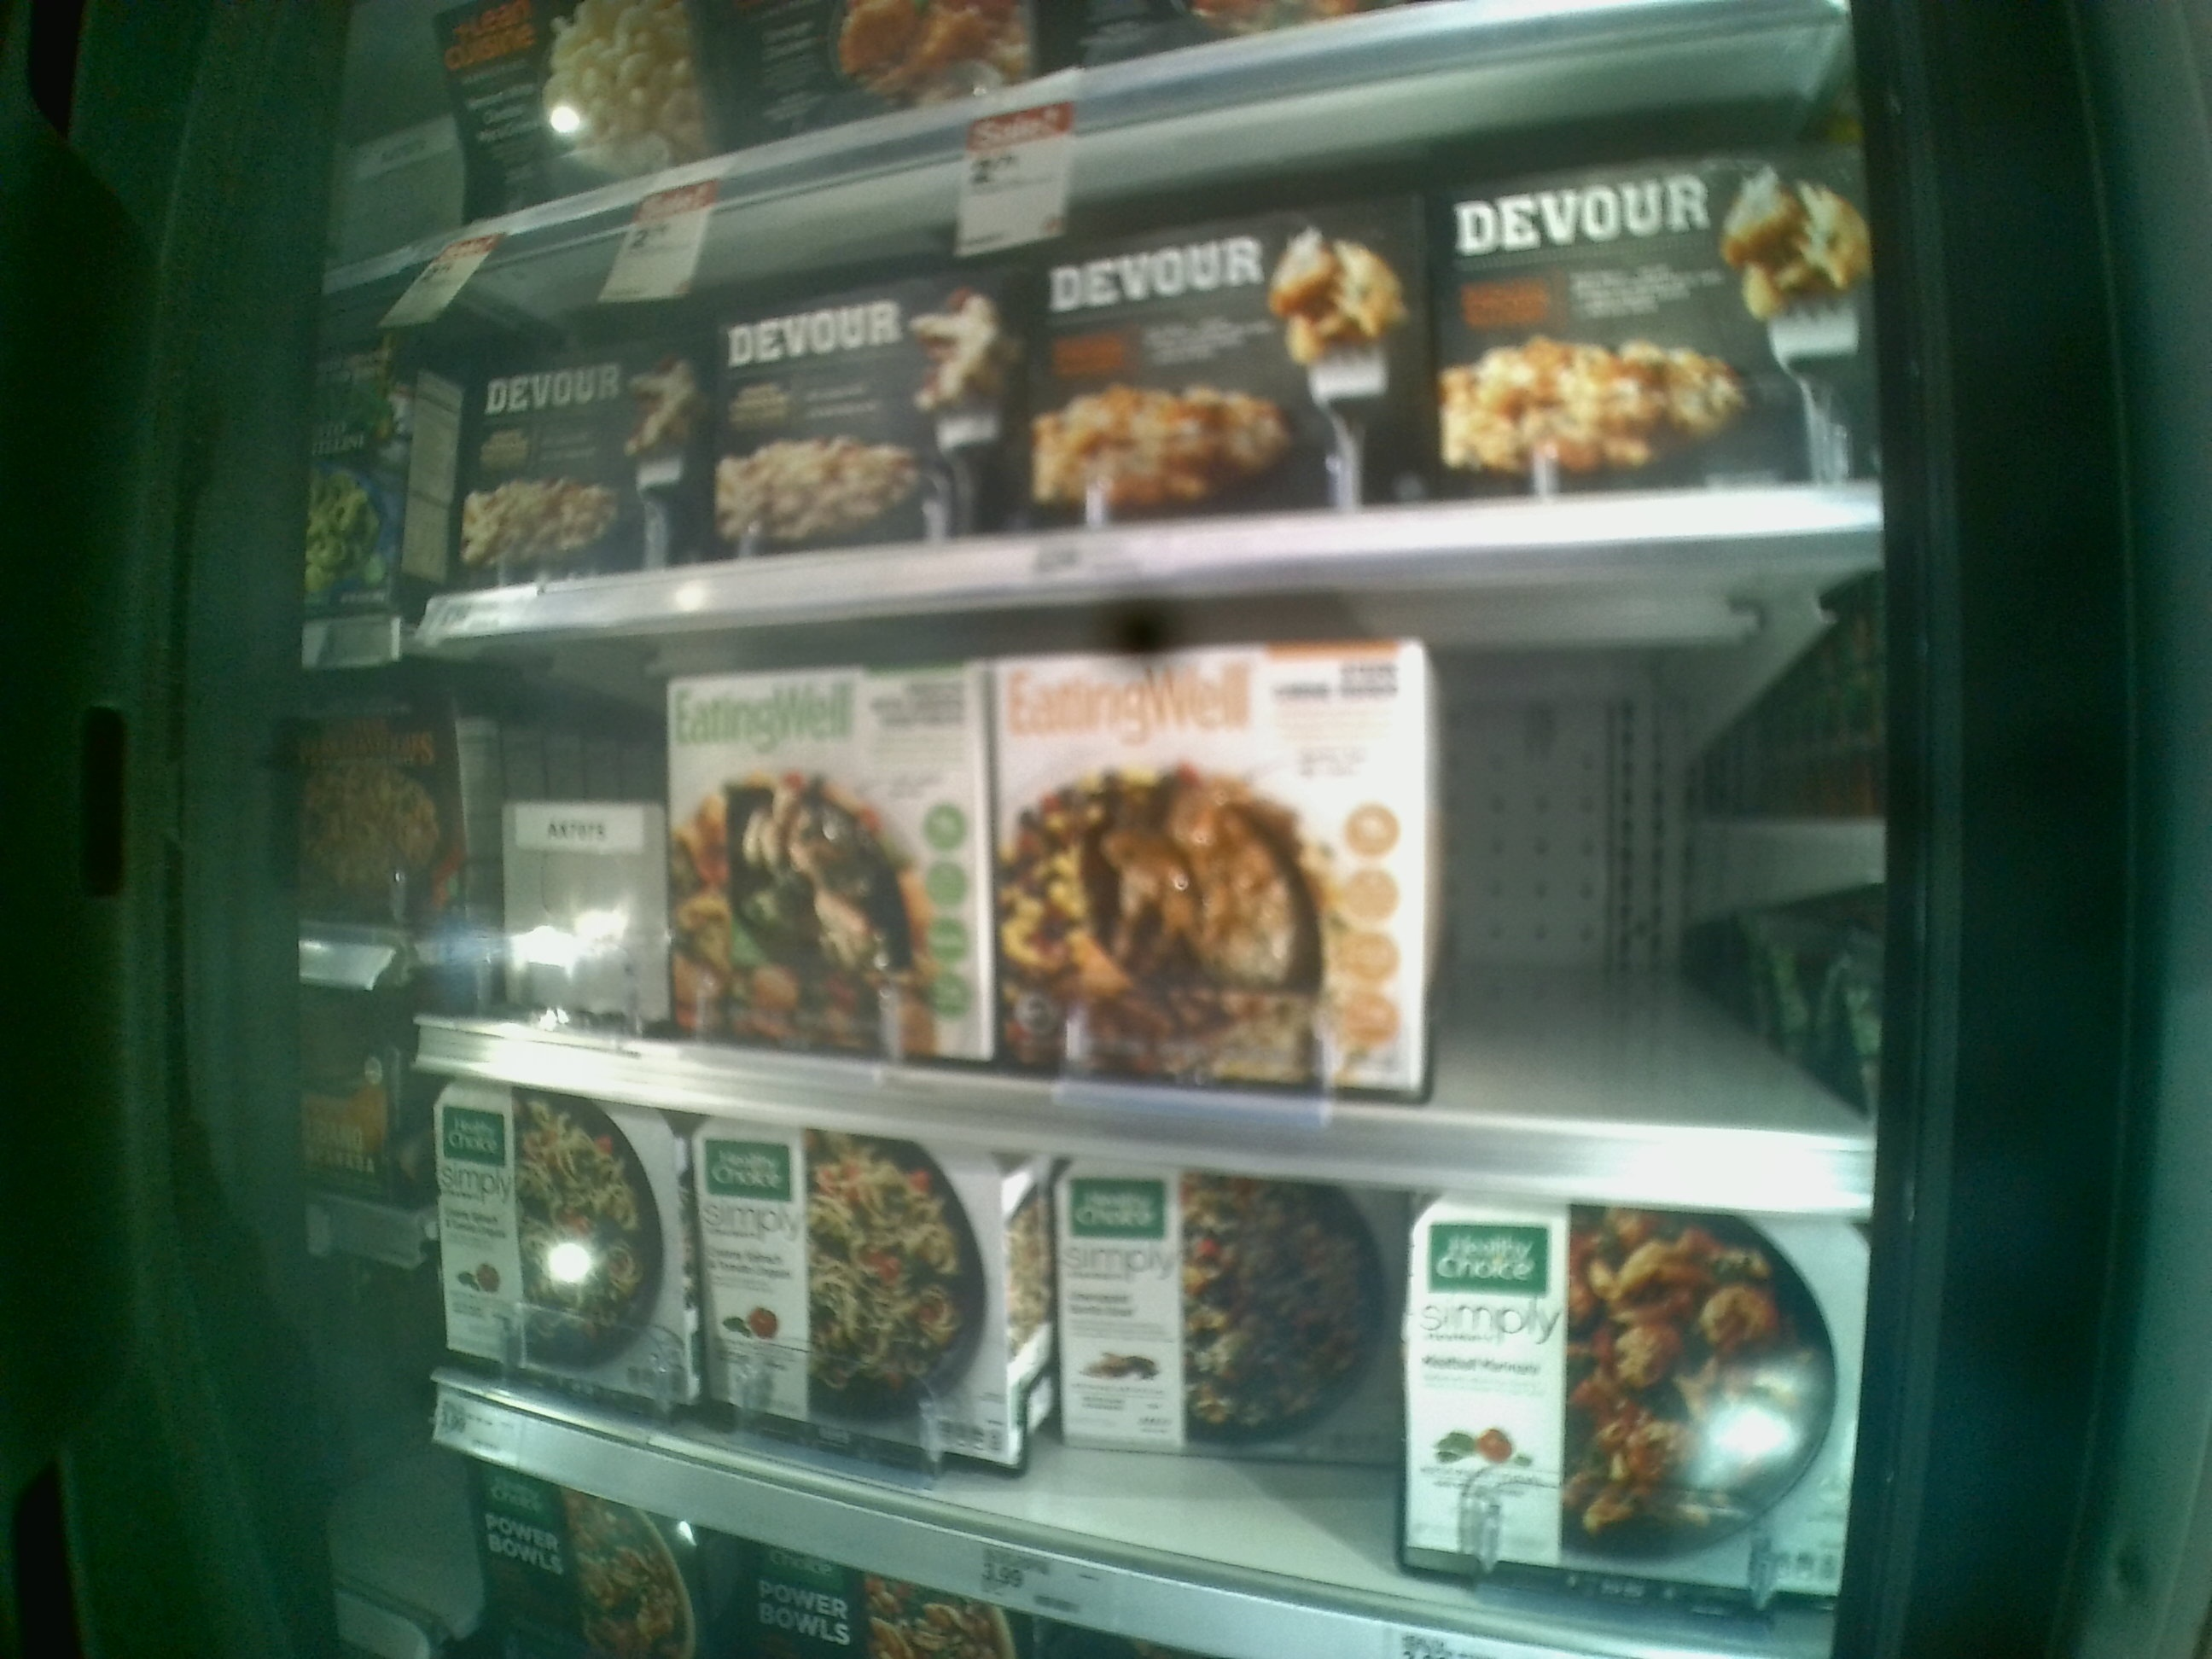shelf: (421, 559, 1885, 1213)
